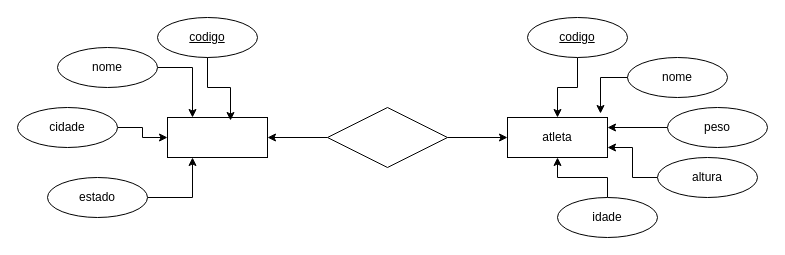
The diagram is 785 pixels wide and 255 high, and some of its shapes have lost their labels. Here are the shapes that lost their labels. From the top down, the centre of each, then its label:
point (217, 137): equipe
point (387, 137): inscrito
